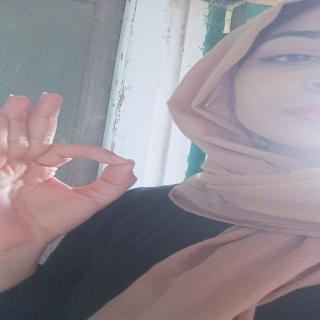Space: (0, 90, 146, 219)
